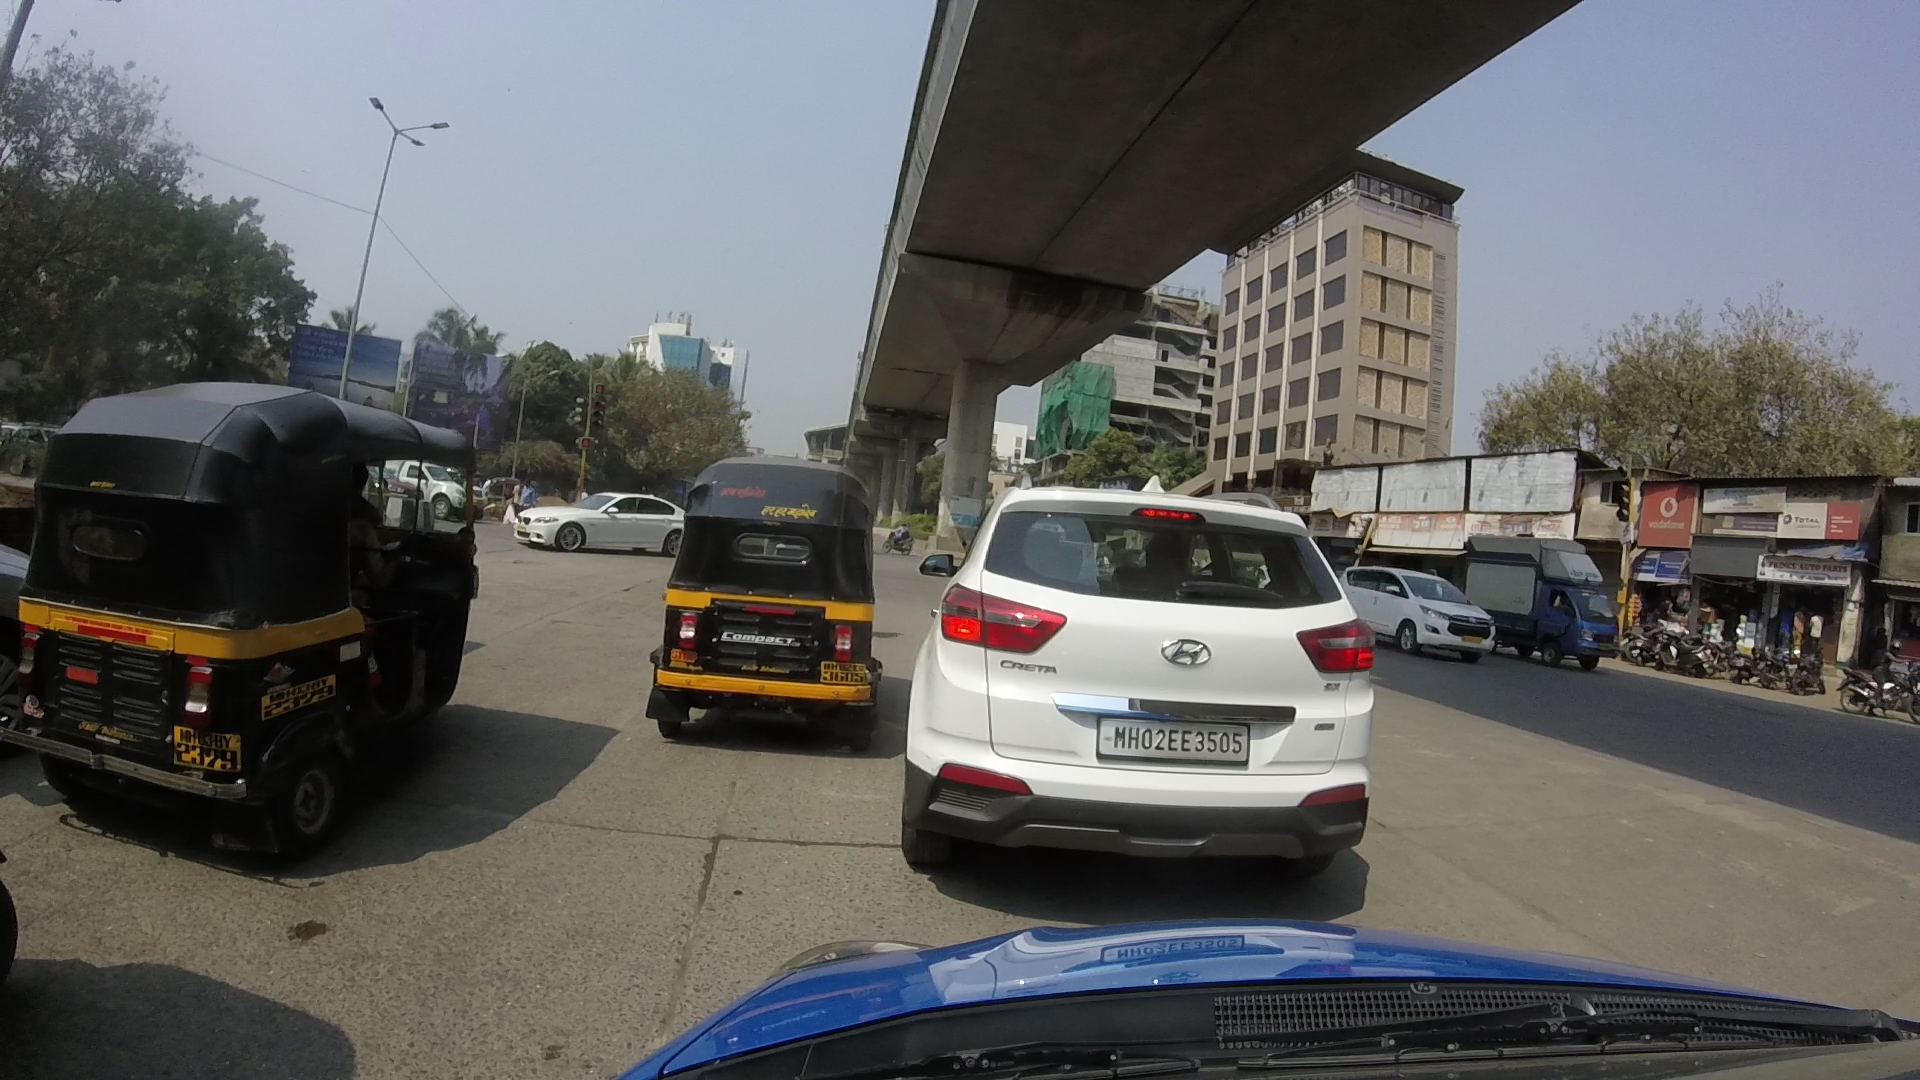car: (913, 477, 1389, 890), (1337, 541, 1506, 666), (504, 465, 691, 574)
rickshaw: (26, 384, 498, 845), (611, 444, 913, 785)
truck: (1466, 518, 1634, 666)
